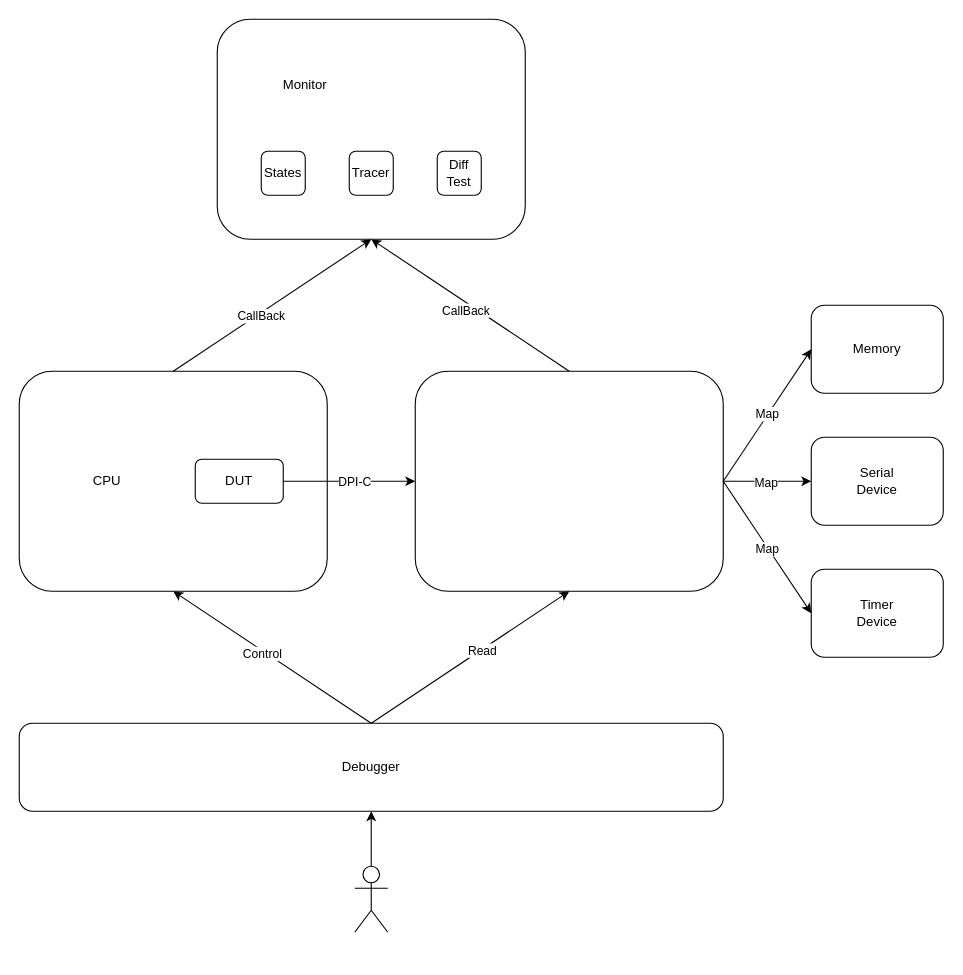
Some shapes in this 963 by 975 pixel diagram are drawn without their labels. Each missing label, with the centre of its shape:
"MemoryManager" goes at point (568, 480).
"User" goes at point (371, 898).
